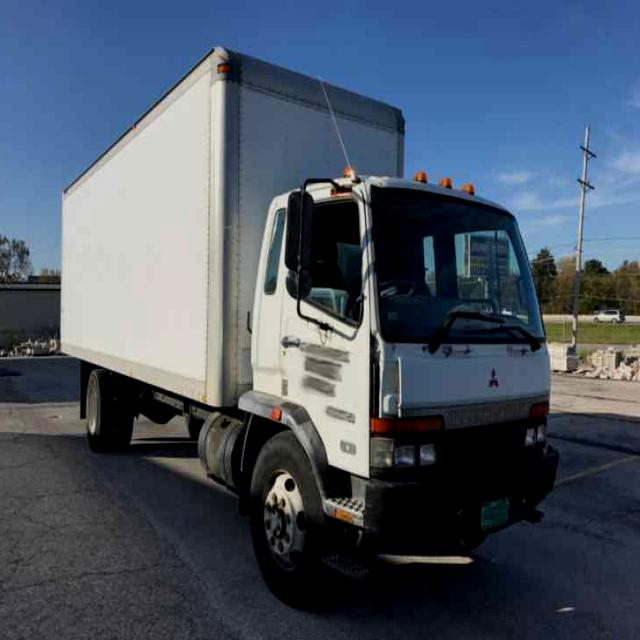truck: (60, 42, 558, 598)
